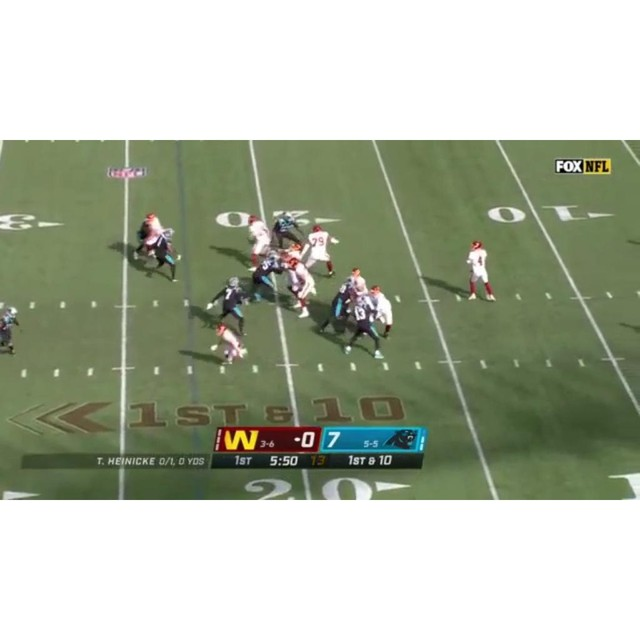american-football-player: (343, 295, 383, 358), (207, 277, 247, 332), (285, 257, 317, 318), (145, 227, 179, 283), (465, 241, 496, 301), (304, 224, 339, 277), (319, 280, 353, 334), (210, 322, 248, 366), (250, 252, 282, 304), (244, 215, 272, 271), (132, 213, 163, 261), (369, 284, 394, 339), (271, 210, 304, 250)
